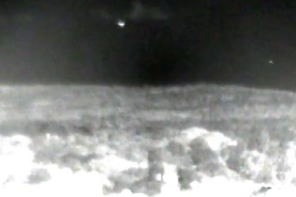Target: (119, 22, 272, 63)
